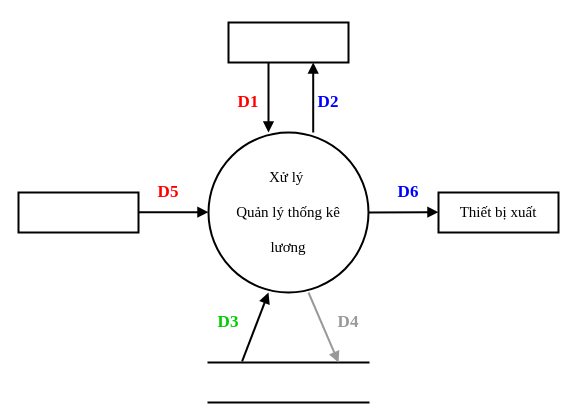
The diagram is 576 pixels wide and 420 high, and some of its shapes have lost their labels. The shapes that lost their labels are listed below. From the top down, each one's centre as x and y in pixels, then its label:
At (288,42): "Nhân viên".
At (78,212): "Thiết bị nhập".
